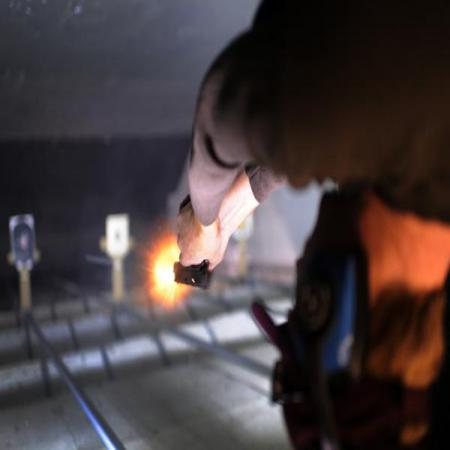Pistol: (174, 194, 214, 292)
